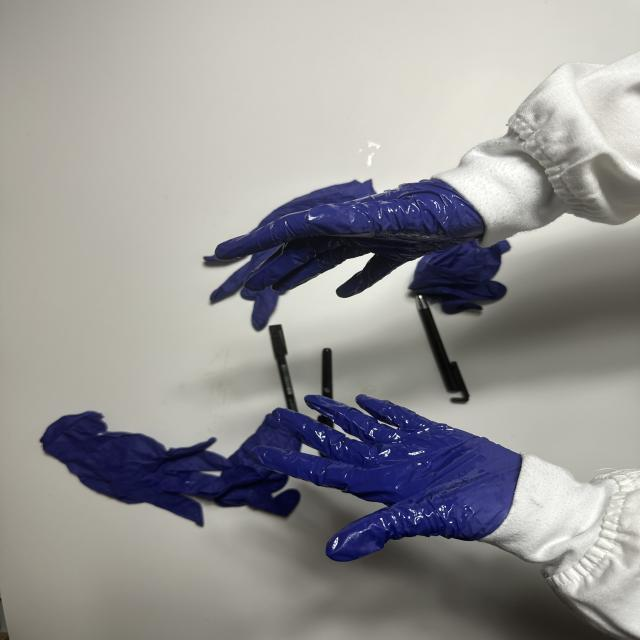gloves_contaminated: (253, 395, 522, 561), (215, 180, 484, 298)
